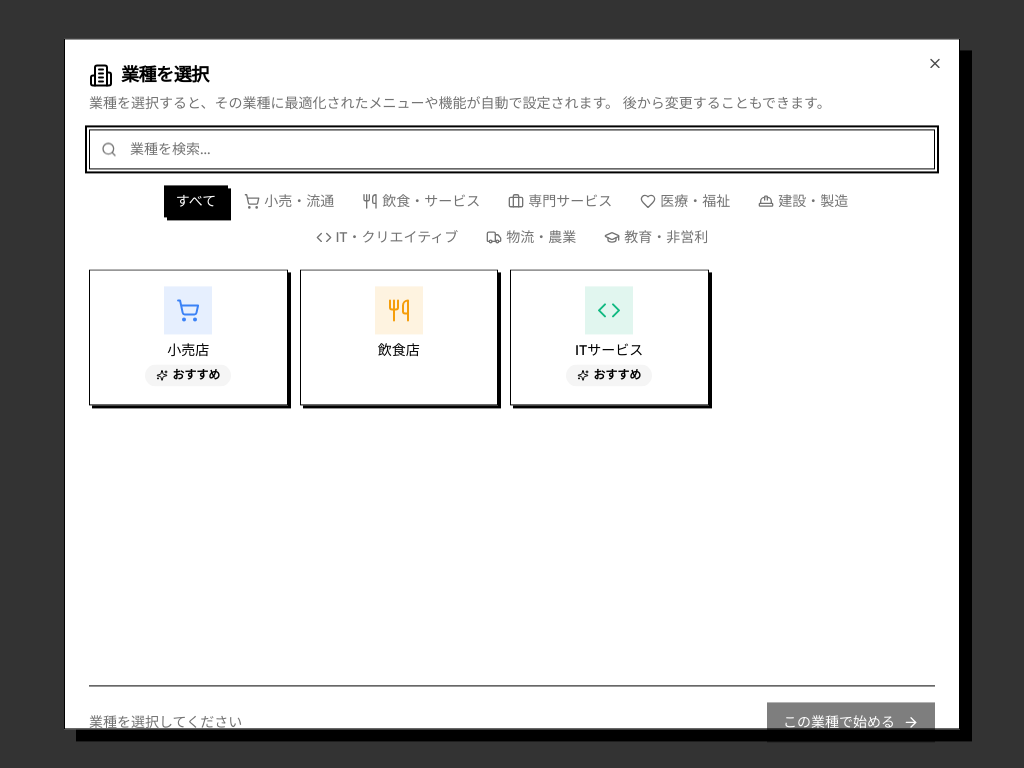
Scenario: IndustryOnboardingDialog › should filter templates when searching
Step 1. Type "IT" into the field with placeholder "業種を検索..." → (512, 149), box [89, 129, 935, 169]
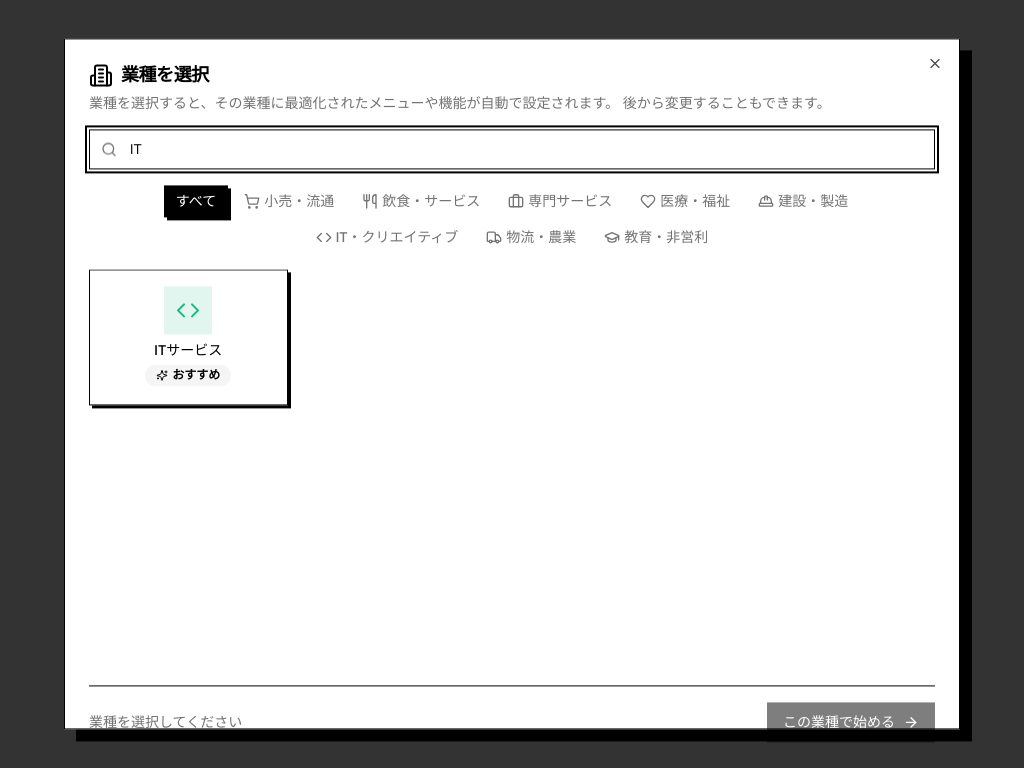
Expected: the text "ITサービス" is shown, [154, 341, 222, 359]
Now the text "小売店" is gone
